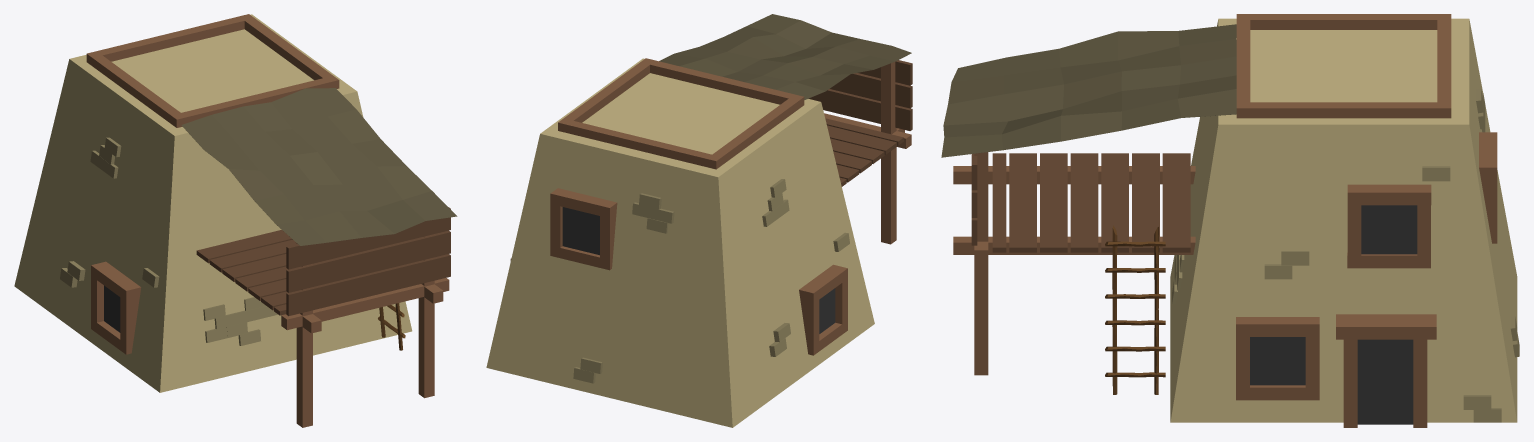
Rendered from Huis_1.fbx.
3 views of the same model, side by side, from view 1: azimuth 30°, elevation 25°; view 2: azimuth 150°, elevation 25°; view 3: azimuth 270°, elevation 25° (orthographic). The views are drawn at different scales.
Parts seen in each view (by area): view 1: Huis, Doek, Planken, Palen Op Dak, Palen, Stenen, Kozijnen, Zwarte gaten, Ladder; view 2: Huis, Doek, Palen Op Dak, Planken, Kozijnen, Palen, Stenen, Zwarte gaten; view 3: Huis, Doek, Planken, Kozijnen, Zwarte gaten, Palen Op Dak, Palen, Ladder, Stenen.
Boxes of the visible parts, x1,y1,x2,y2 form: Huis: (14,14,412,392); Doek: (181,88,457,245); Planken: (196,207,450,316); Palen Op Dak: (86,14,339,127); Palen: (281,234,449,427); Stenen: (60,137,277,345); Kozijnen: (91,261,141,354); Zwarte gaten: (104,285,120,332); Ladder: (378,303,405,350); Huis: (486,58,874,427); Doek: (659,14,911,99); Palen Op Dak: (558,58,804,169); Planken: (808,60,912,186); Kozijnen: (510,188,847,355); Palen: (824,62,911,244); Stenen: (573,179,849,383); Zwarte gaten: (562,207,835,333); Huis: (1170,18,1517,422); Doek: (941,24,1236,157); Planken: (971,153,1190,252); Kozijnen: (1236,132,1497,427); Zwarte gaten: (1250,205,1417,424); Palen Op Dak: (1236,14,1451,118); Palen: (953,152,1195,375); Ladder: (1105,225,1165,394); Stenen: (1172,88,1519,422).
Size of the model in its own units: 2606 by 2285 by 4147.
9 materials, 9 textured.
